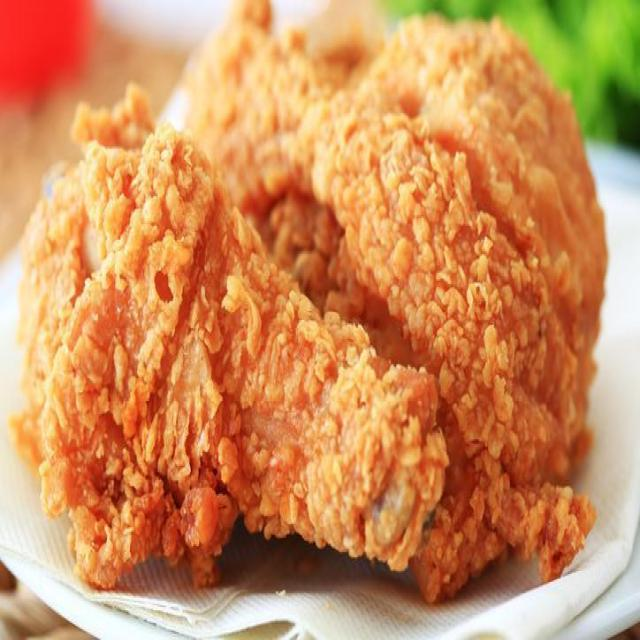Frango: (166, 16, 609, 585), (26, 105, 440, 623)
